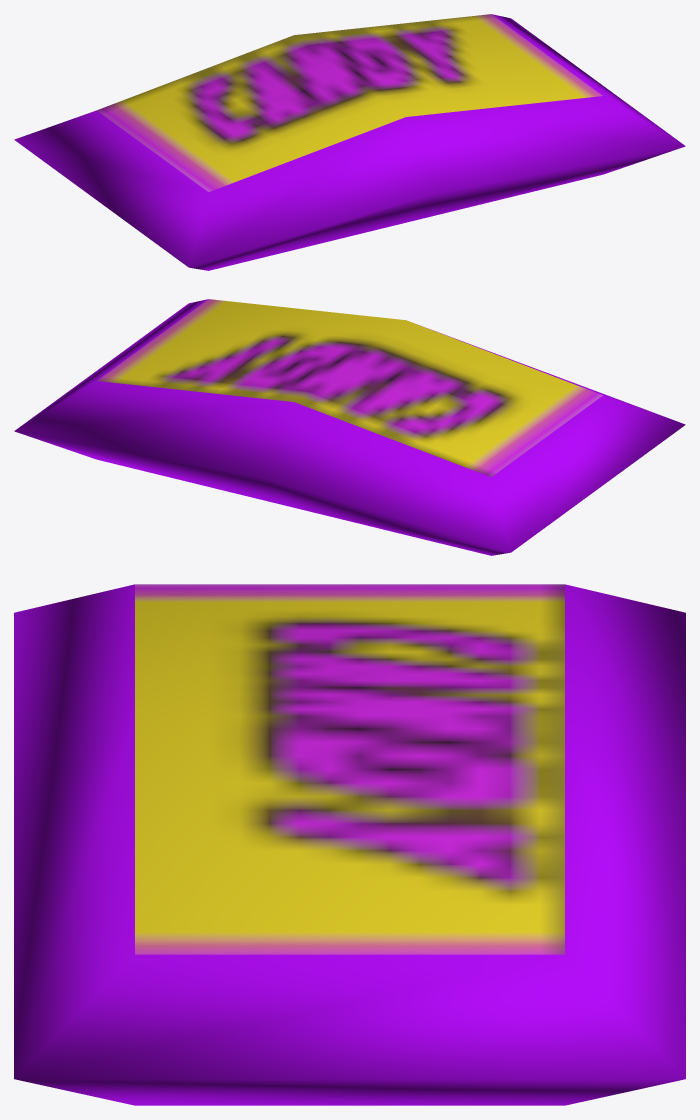
Rendered from Candy_Purple.fbx.
3 views of the same model, one above another, from view 1: azimuth 30°, elevation 25°; view 2: azimuth 150°, elevation 25°; view 3: azimuth 270°, elevation 25° (orthographic). The views are drawn at different scales.
Visible parts, largest first — view 1: Candy_Purple_1; view 2: Candy_Purple_1; view 3: Candy_Purple_1.
Boxes of the visible parts, x1,y1,x2,y2 form: Candy_Purple_1: [14, 14, 685, 270]; Candy_Purple_1: [14, 299, 685, 555]; Candy_Purple_1: [14, 584, 685, 1105].
Bounding box in the file's own units: 20.58 × 4.18 × 12.53.
